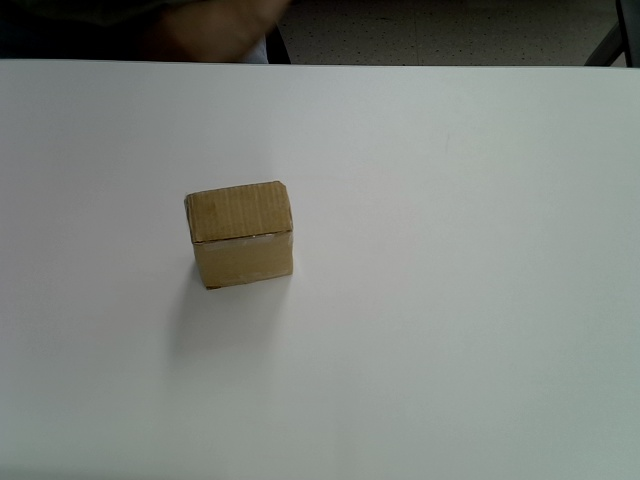normal: (183, 180, 293, 289)
